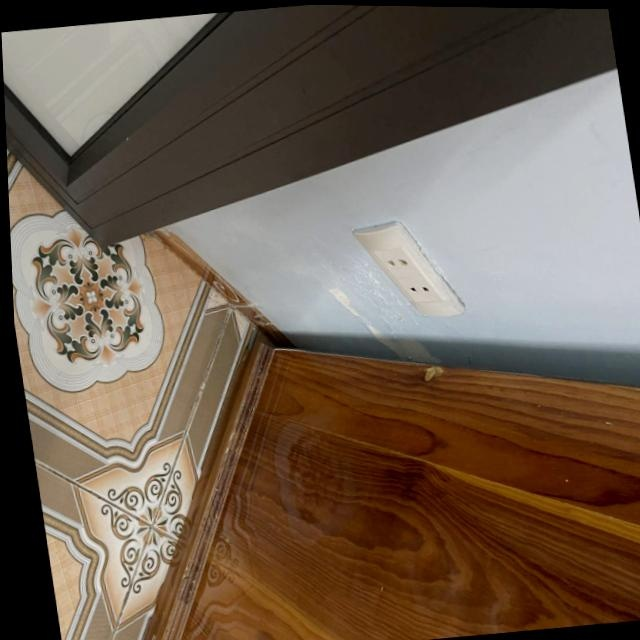outlet: (349, 213, 466, 325)
